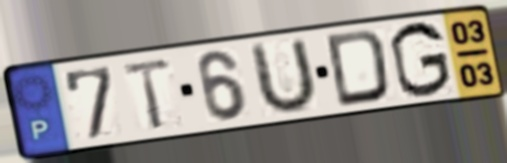6: (195, 48, 251, 124)
7: (61, 62, 115, 142)
D: (323, 27, 393, 110)
G: (386, 19, 454, 101)
T: (120, 55, 174, 133)
U: (249, 35, 320, 119)
